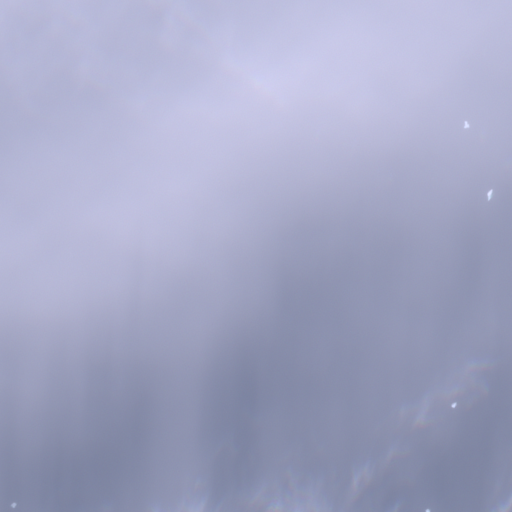Iceberg: (487, 189, 492, 200), (451, 402, 456, 407), (464, 121, 468, 127), (11, 503, 16, 507), (426, 509, 429, 511)
